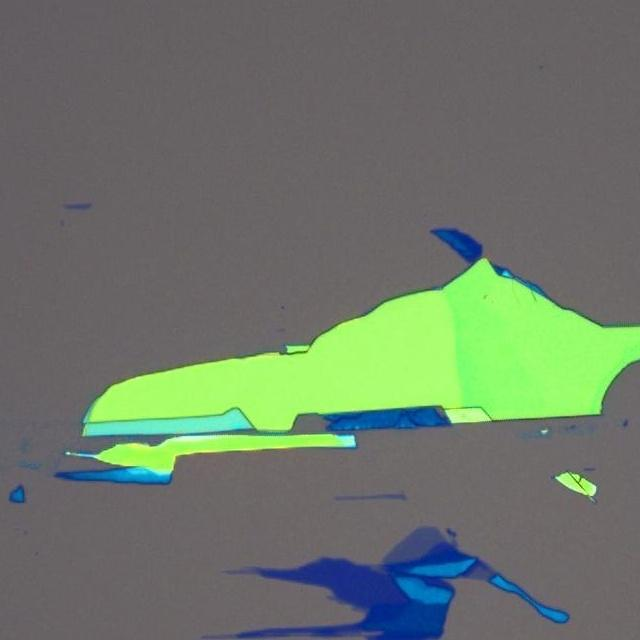monolayer-eWW4: (378, 523, 448, 564), (332, 492, 406, 502), (467, 563, 497, 583), (220, 566, 264, 576), (326, 594, 346, 605), (351, 607, 368, 616)
